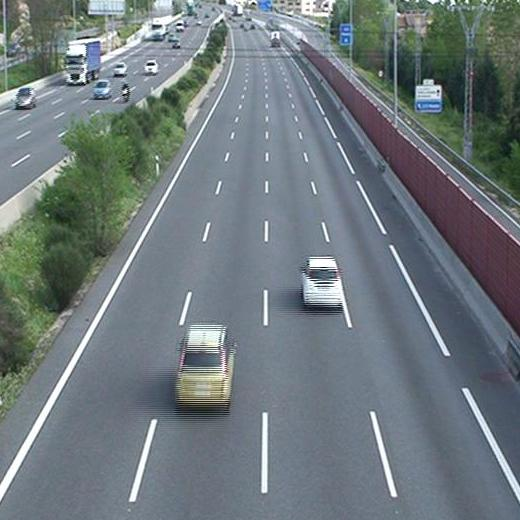car: (172, 326, 237, 408), (299, 257, 344, 311)
